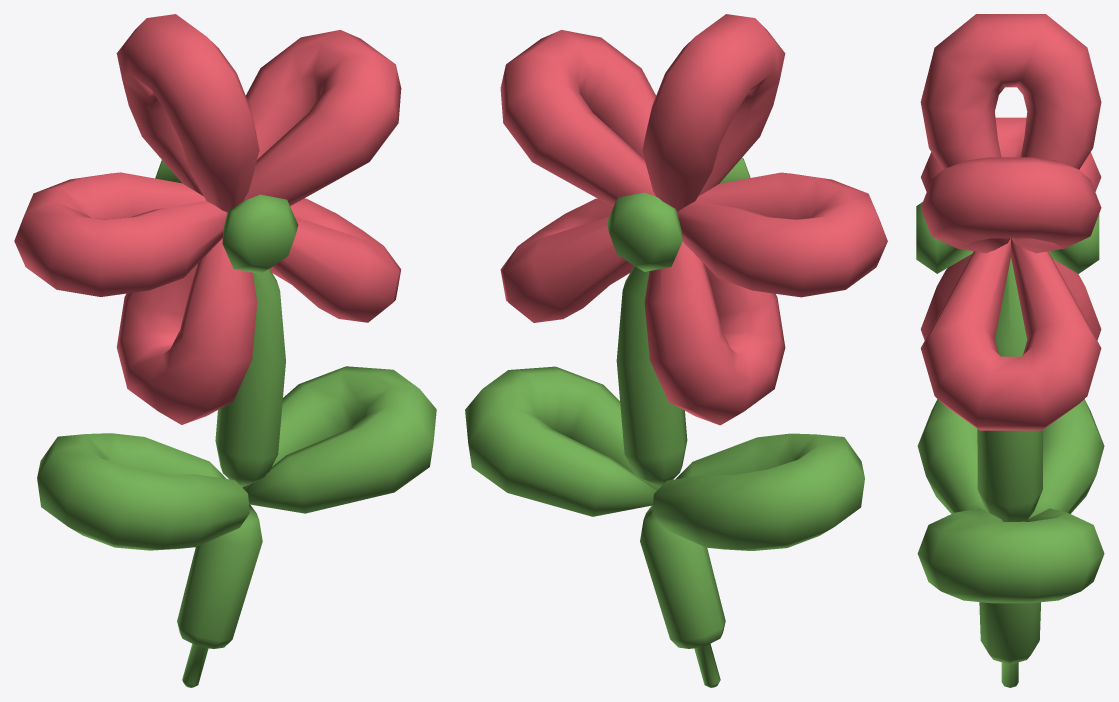
File: BalloonFlower_01.fbx
The picture shows the model from 3 angles, left to right: view 1: azimuth 30°, elevation 25°; view 2: azimuth 150°, elevation 25°; view 3: azimuth 270°, elevation 25°; orthographic projection.
Visible parts, largest first — view 1: BalloonFlower_01; view 2: BalloonFlower_01; view 3: BalloonFlower_01.
Part boxes in pixels (left/top/right/bottom): BalloonFlower_01: left=14, top=14, right=436, bottom=687; BalloonFlower_01: left=465, top=14, right=887, bottom=687; BalloonFlower_01: left=916, top=14, right=1104, bottom=687.
Bounding box in the file's own units: 0.2499 × 0.4051 × 0.1045.
